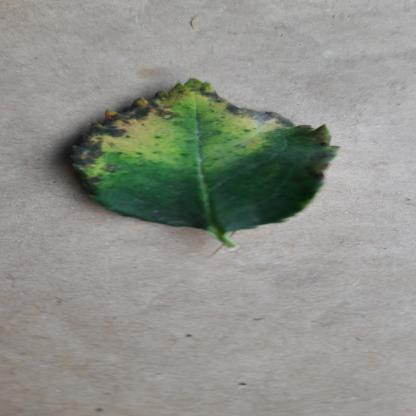black-spot: (62, 79, 349, 232)
